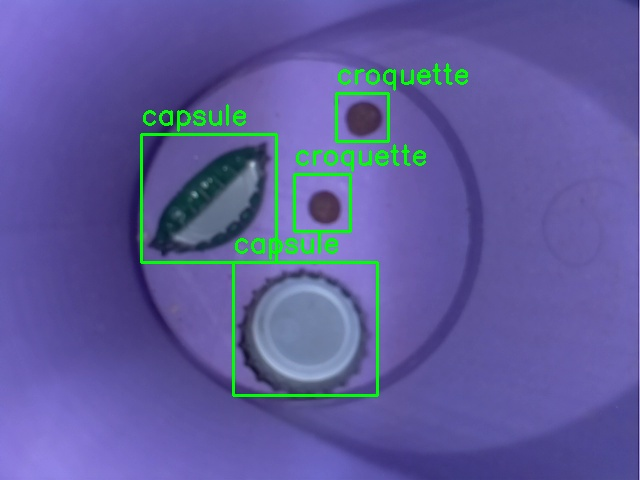capsule: (233, 262, 377, 395), (141, 134, 276, 262)
croquette: (294, 174, 350, 231), (336, 93, 388, 141)
